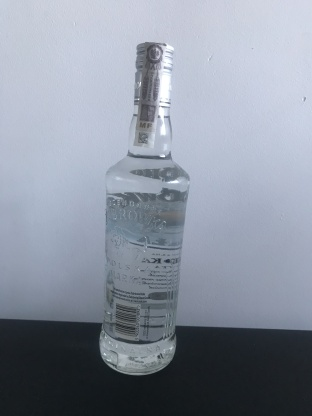nakretka: (131, 37, 176, 110)
